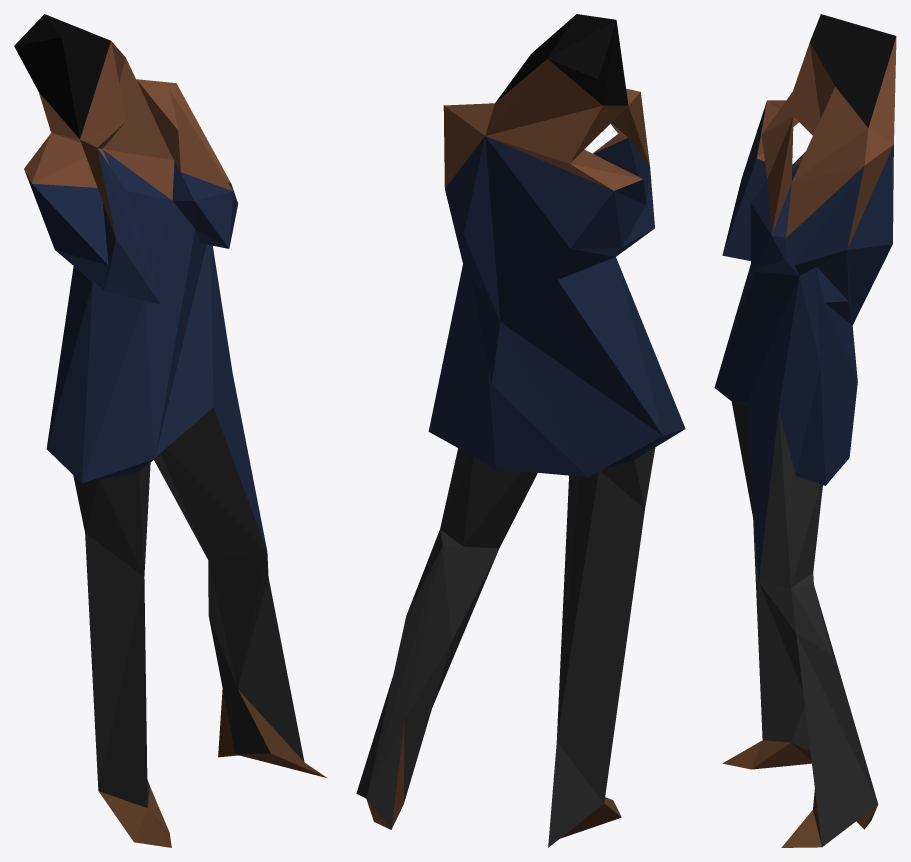
File: walker-8.glb
The picture shows the model from 3 angles, left to right: view 1: azimuth 30°, elevation 25°; view 2: azimuth 150°, elevation 25°; view 3: azimuth 270°, elevation 25°; orthographic projection. The views are drawn at different scales.
Parts seen in each view (by area): view 1: Woman06; view 2: Woman06; view 3: Woman06.
Part boxes in pixels (x1,y1,x2,y2): Woman06: (14, 14, 326, 847); Woman06: (356, 14, 685, 847); Woman06: (714, 14, 896, 847).
Size of the model in its own units: 0.5785 by 1.58 by 0.3605.
